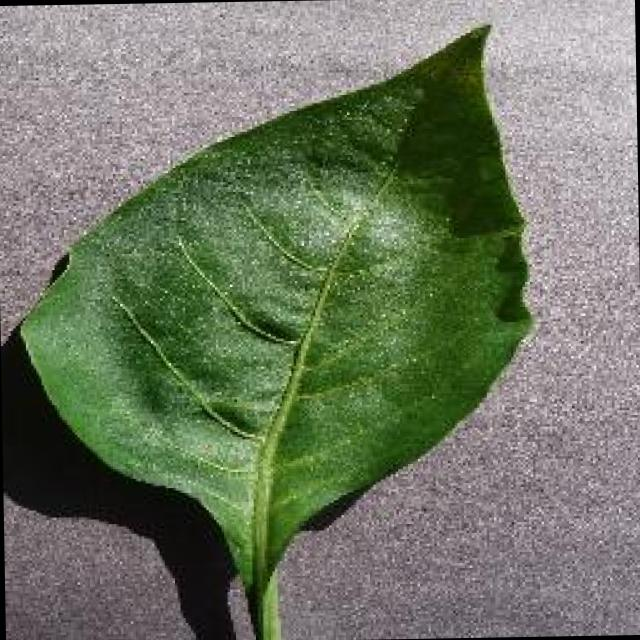Chilli_Healthy: (9, 19, 540, 640)
